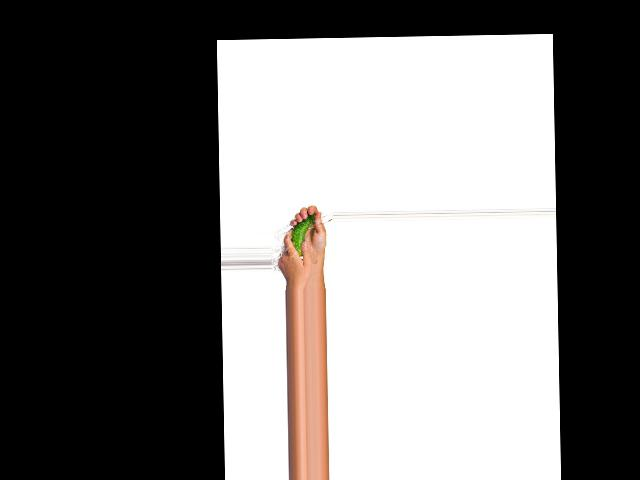cucumber: (290, 213, 315, 257)
